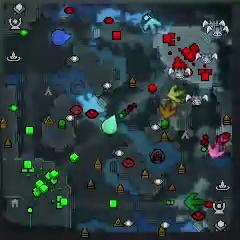p1: (52, 29, 72, 45)
p2: (102, 115, 117, 135)
x1: (208, 141, 224, 159)
x2: (169, 85, 185, 103)
x3: (143, 17, 161, 33)
x4: (185, 193, 204, 210)
x5: (158, 100, 176, 119)
